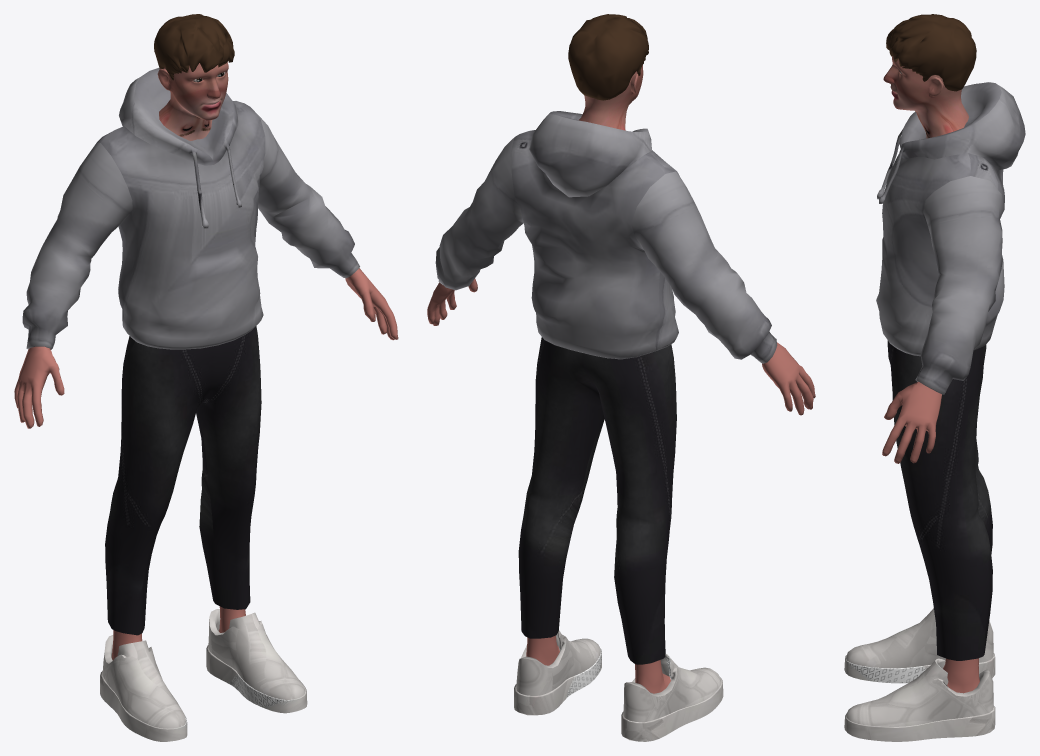
Rendered from DRACOwaving.glb.
3 views of the same model, side by side, from view 1: azimuth 30°, elevation 25°; view 2: azimuth 150°, elevation 25°; view 3: azimuth 270°, elevation 25° (orthographic).
Parts seen in each view (by area): view 1: Wolf3D_Outfit_Top, Wolf3D_Outfit_Bottom, Wolf3D_Outfit_Footwear, Wolf3D_Body, Wolf3D_Head, Wolf3D_Hair; view 2: Wolf3D_Outfit_Top, Wolf3D_Outfit_Bottom, Wolf3D_Outfit_Footwear, Wolf3D_Hair, Wolf3D_Body, Wolf3D_Head; view 3: Wolf3D_Outfit_Top, Wolf3D_Outfit_Bottom, Wolf3D_Outfit_Footwear, Wolf3D_Hair, Wolf3D_Body, Wolf3D_Head.
Boxes of the visible parts, bbox=[...] form: Wolf3D_Outfit_Top: bbox=[22, 68, 359, 349]; Wolf3D_Outfit_Bottom: bbox=[105, 326, 261, 635]; Wolf3D_Outfit_Footwear: bbox=[100, 609, 307, 741]; Wolf3D_Body: bbox=[14, 268, 398, 660]; Wolf3D_Head: bbox=[157, 62, 228, 140]; Wolf3D_Hair: bbox=[154, 14, 234, 80]; Wolf3D_Outfit_Top: bbox=[435, 111, 777, 363]; Wolf3D_Outfit_Bottom: bbox=[518, 337, 676, 664]; Wolf3D_Outfit_Footwear: bbox=[514, 630, 723, 741]; Wolf3D_Hair: bbox=[568, 14, 648, 100]; Wolf3D_Body: bbox=[427, 278, 815, 693]; Wolf3D_Head: bbox=[579, 65, 643, 130]; Wolf3D_Outfit_Top: bbox=[876, 82, 1025, 394]; Wolf3D_Outfit_Bottom: bbox=[887, 340, 992, 660]; Wolf3D_Outfit_Footwear: bbox=[844, 608, 995, 741]; Wolf3D_Hair: bbox=[886, 14, 976, 91]; Wolf3D_Body: bbox=[882, 381, 979, 693]; Wolf3D_Head: bbox=[883, 56, 968, 138].
Size of the model in its own units: 1.06 by 1.85 by 0.4455.
Materials: 9 (9 with a texture image).
